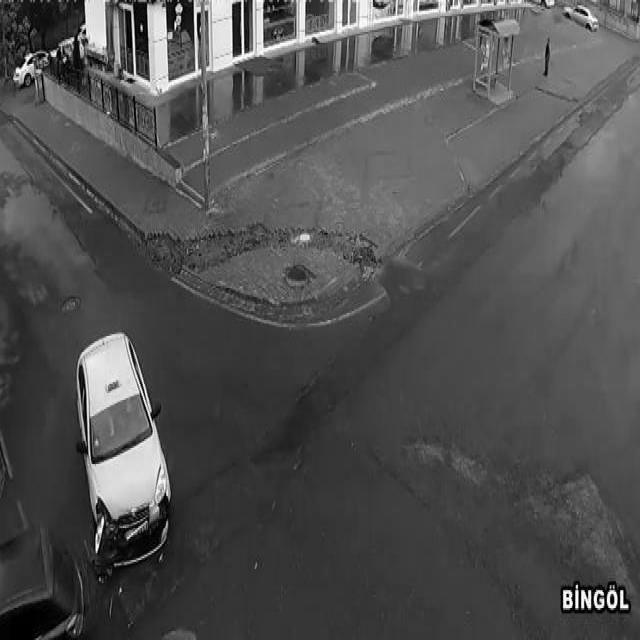accident: (67, 325, 178, 585)
vehicle: (12, 46, 56, 89), (563, 0, 601, 39)
